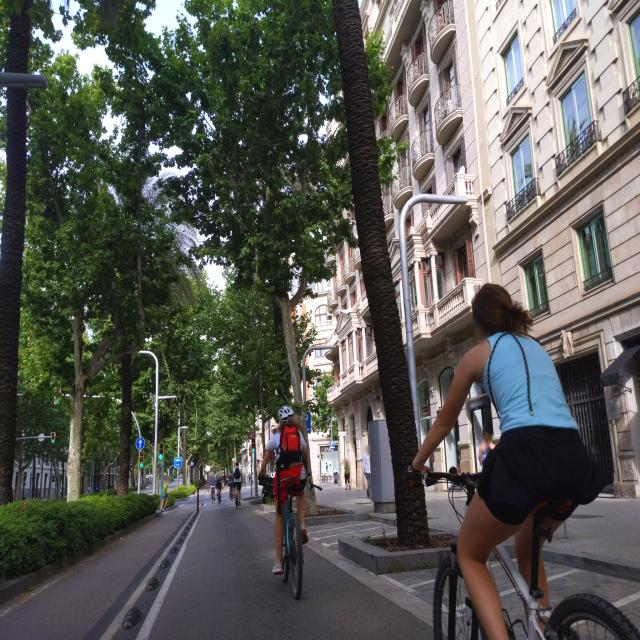bike: (426, 476, 637, 640), (271, 470, 312, 601), (233, 482, 243, 508), (216, 486, 224, 506), (208, 485, 216, 505)
